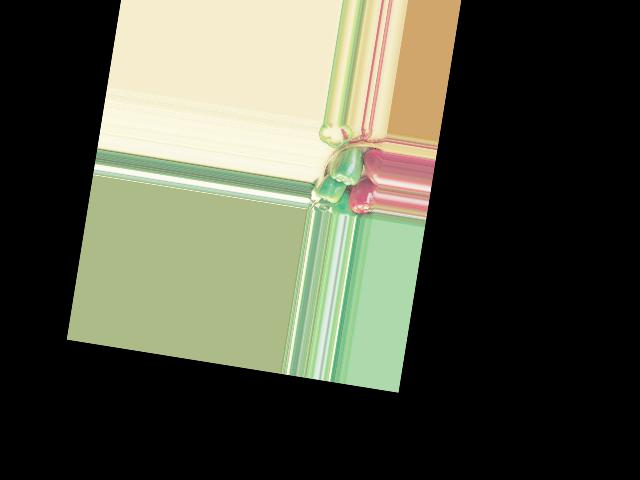bell_pepper: (361, 146, 383, 186)
